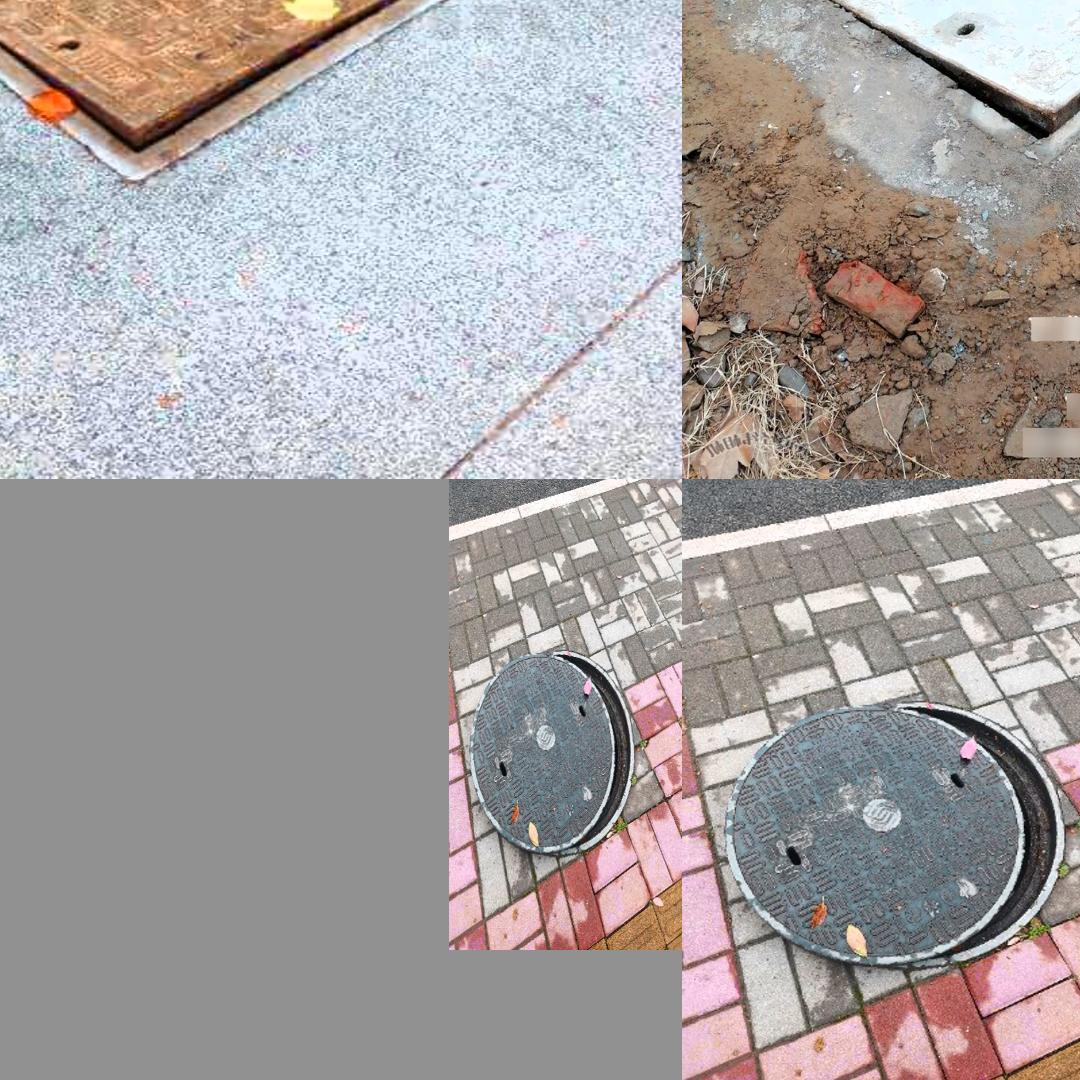uncovered: (717, 707, 1077, 968), (0, 0, 483, 184), (804, 0, 1080, 161), (469, 650, 634, 854)
